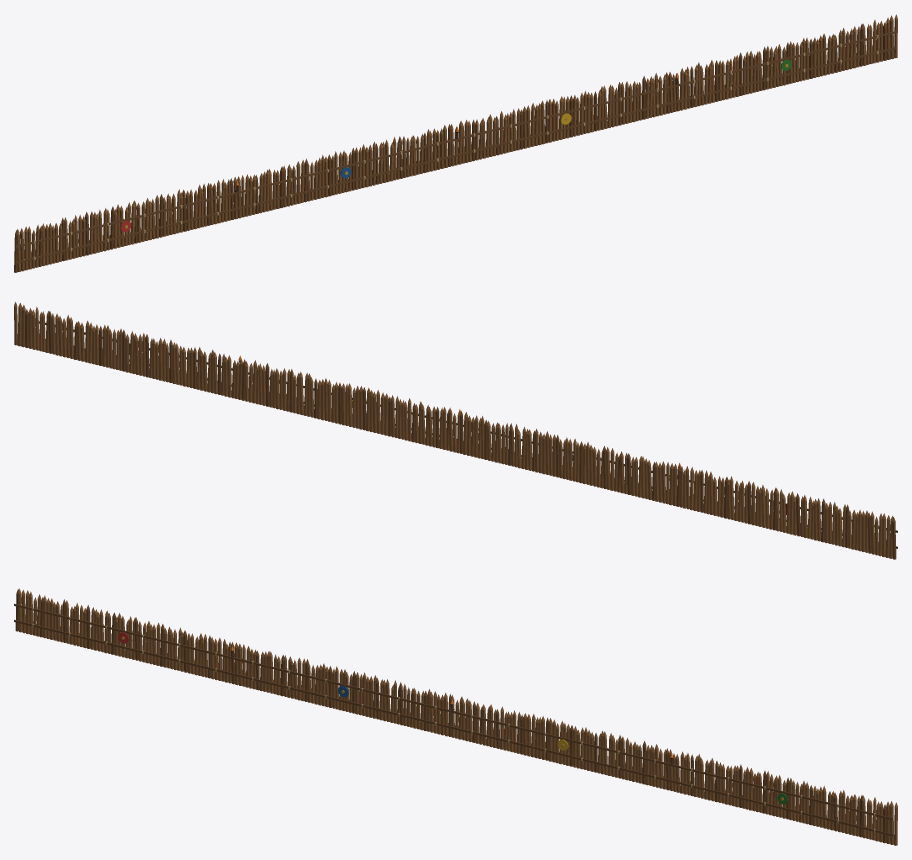
Rendered from gh_fence.glb.
3 renders of one model, top to bottom at view 1: azimuth 30°, elevation 25°; view 2: azimuth 150°, elevation 25°; view 3: azimuth 330°, elevation 25°, orthographic.
Parts seen in each view (by area): view 1: gh_fence; view 2: gh_fence; view 3: gh_fence.
Part boxes in pixels (left/top/right/bottom): gh_fence: left=14, top=14, right=897, bottom=272; gh_fence: left=14, top=302, right=897, bottom=559; gh_fence: left=14, top=588, right=897, bottom=845.
Size of the model in its own units: 92.37 by 4.35 by 0.899.
